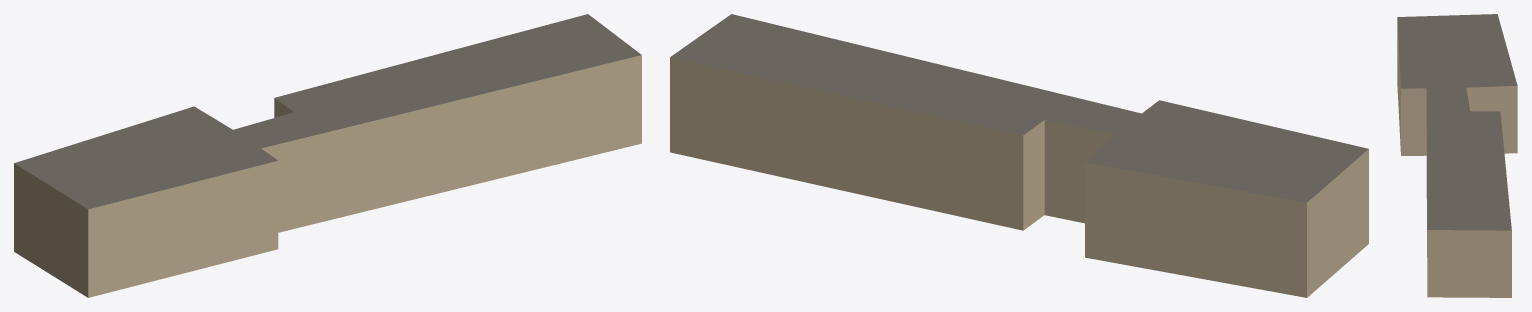
3 views of the same model, side by side, from view 1: azimuth 30°, elevation 25°; view 2: azimuth 150°, elevation 25°; view 3: azimuth 270°, elevation 25° (orthographic). The views are drawn at different scales.
Visible parts, largest first — view 1: HP-w300652148; view 2: HP-w300652148; view 3: HP-w300652148.
Boxes of the visible parts, x1,y1,x2,y2 form: HP-w300652148: [14, 14, 641, 297]; HP-w300652148: [670, 14, 1368, 297]; HP-w300652148: [1397, 14, 1517, 297].
Bounding box in the file's own units: 90.99 × 13.2 × 21.35.
